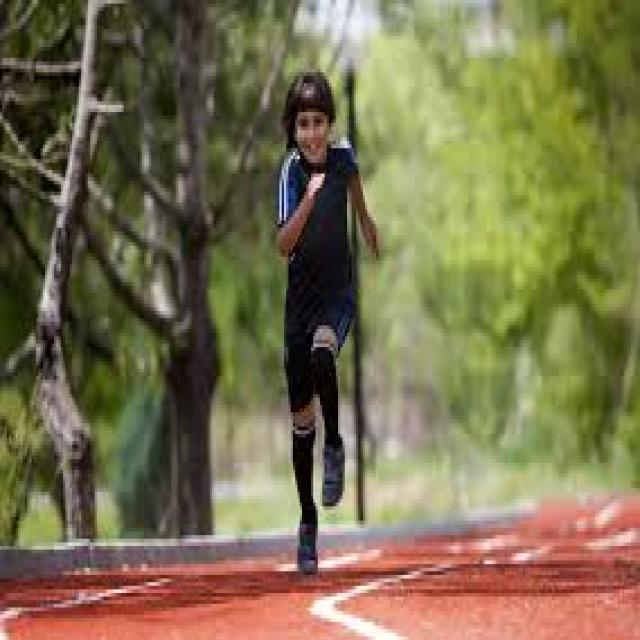Person: (277, 71, 379, 573)
